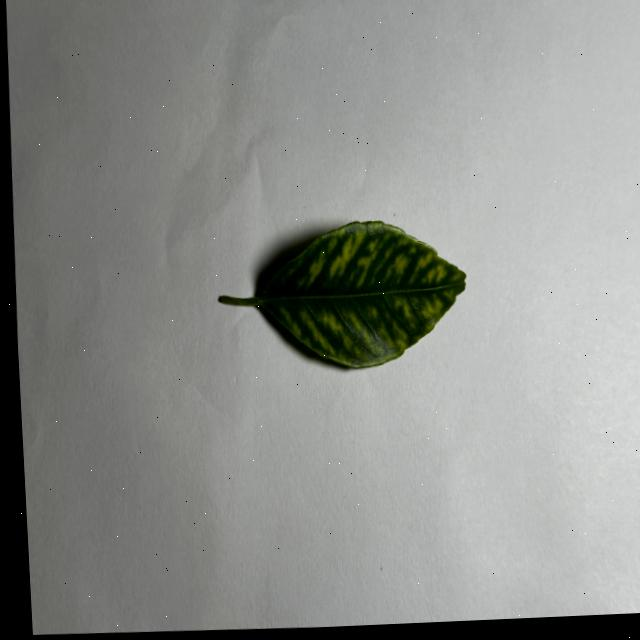greening: (220, 220, 465, 366)
